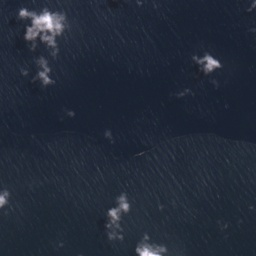Marine Debris: (132, 141, 184, 193)
